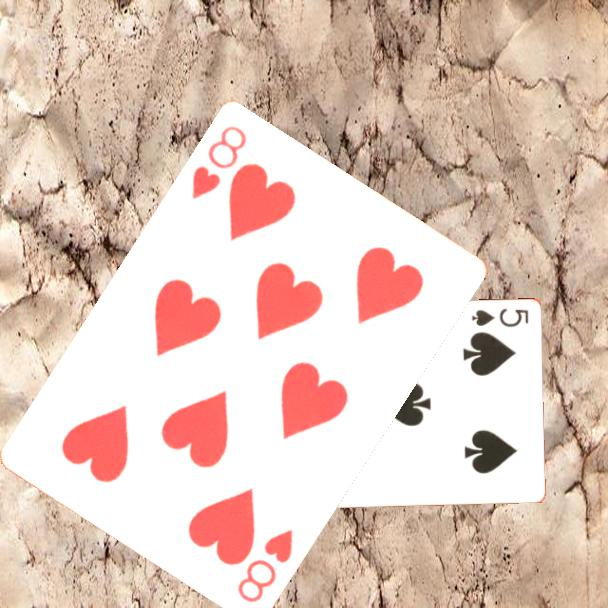h08: (233, 524, 296, 605), (188, 121, 250, 202)
s05: (468, 305, 531, 330)
